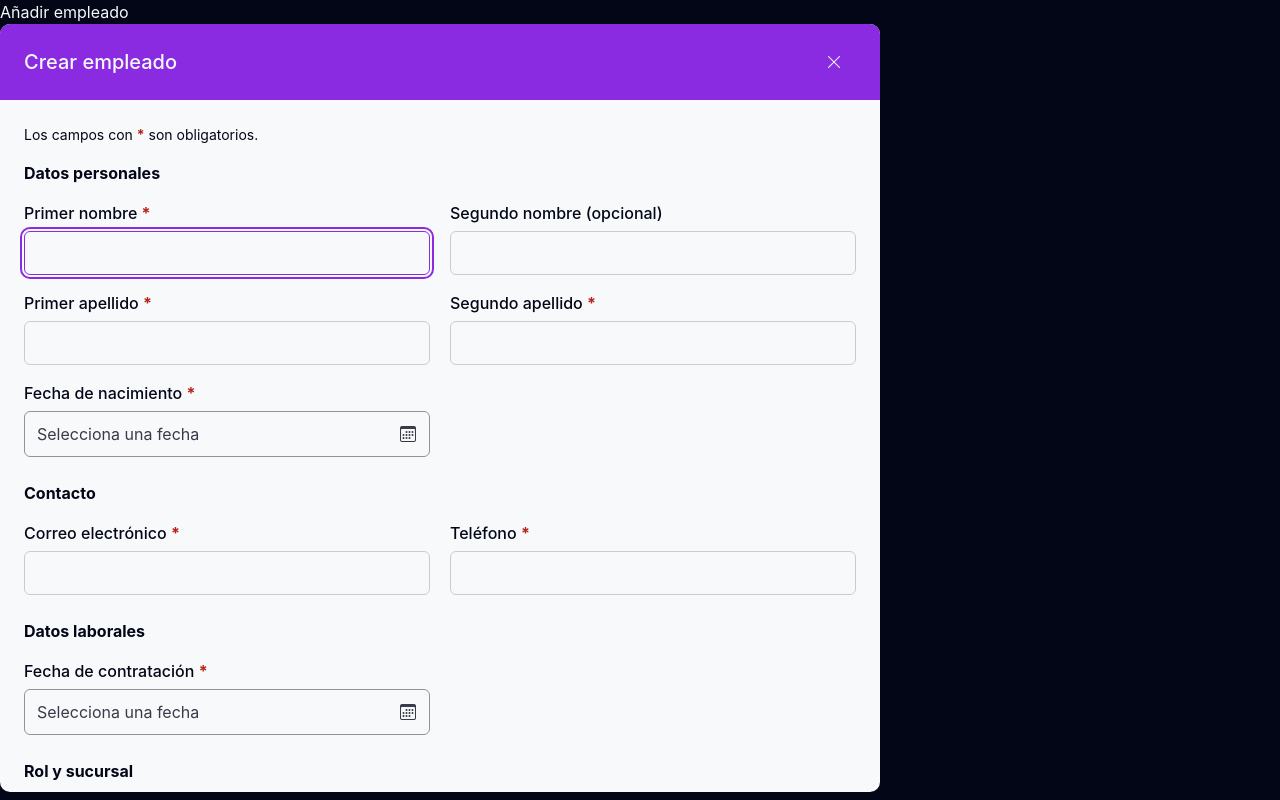
CreateUserDialog › reports malformed email ana@
Type "ana@" into the field named "email".
click(227, 573); type("ana@")  # box [24,551,430,595]
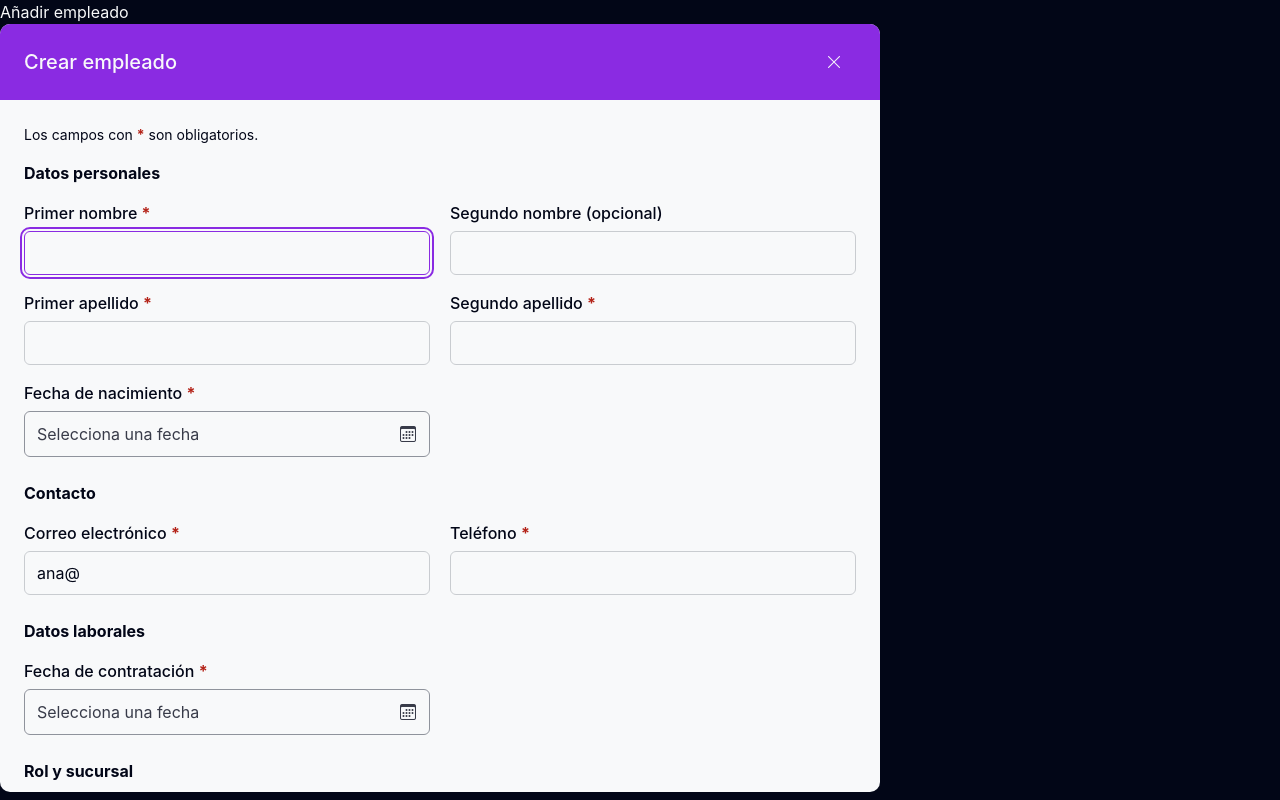
Leave the field named "email", box [24,551,430,595]
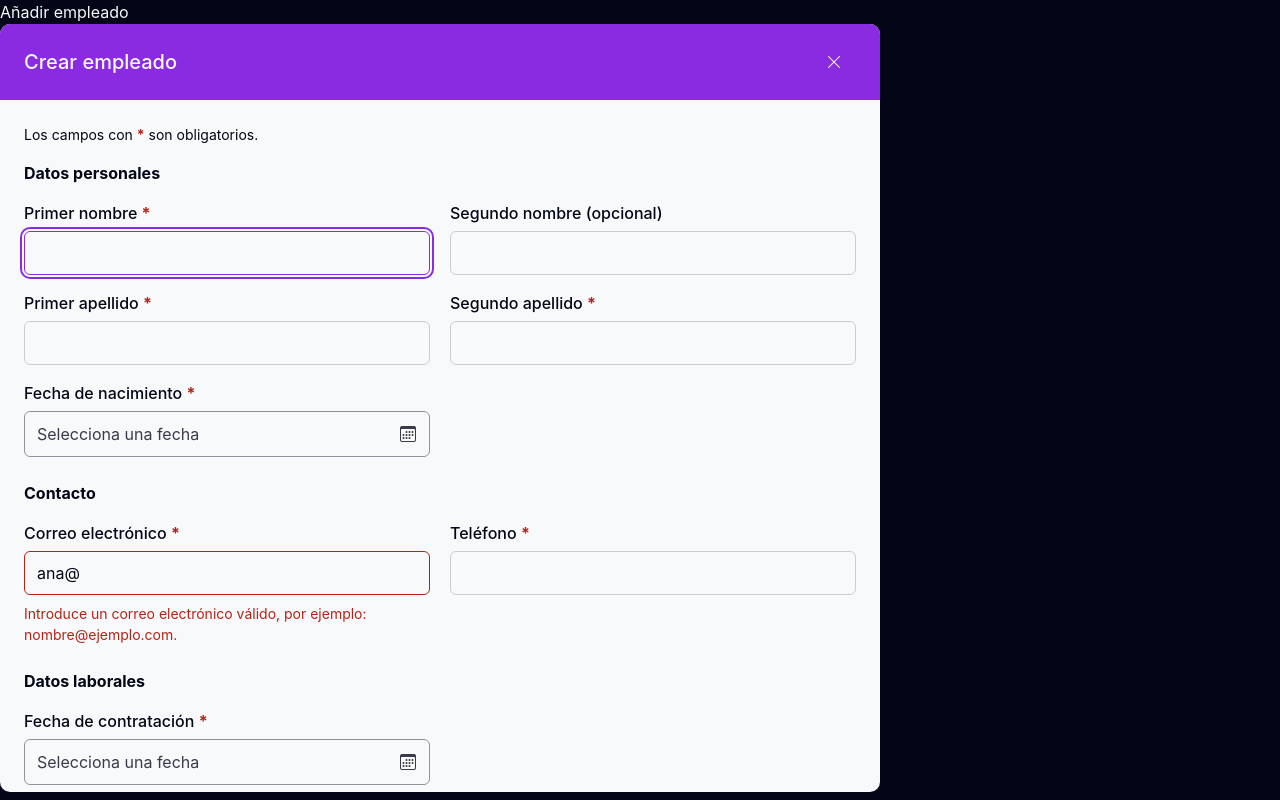
Expected: the text "Introduce un correo electrónico válido" is shown, [24,605,366,643]
